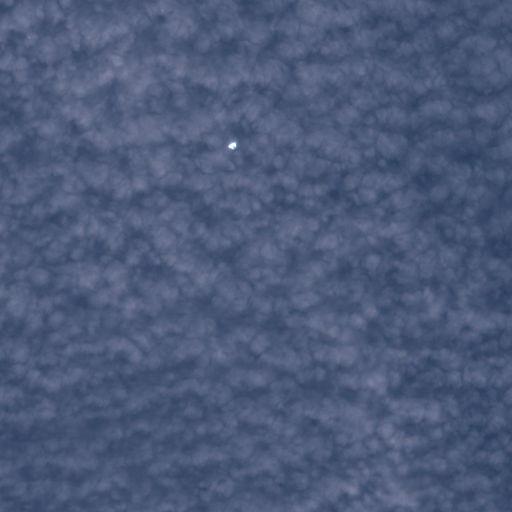Iceberg: (228, 141, 236, 149)
